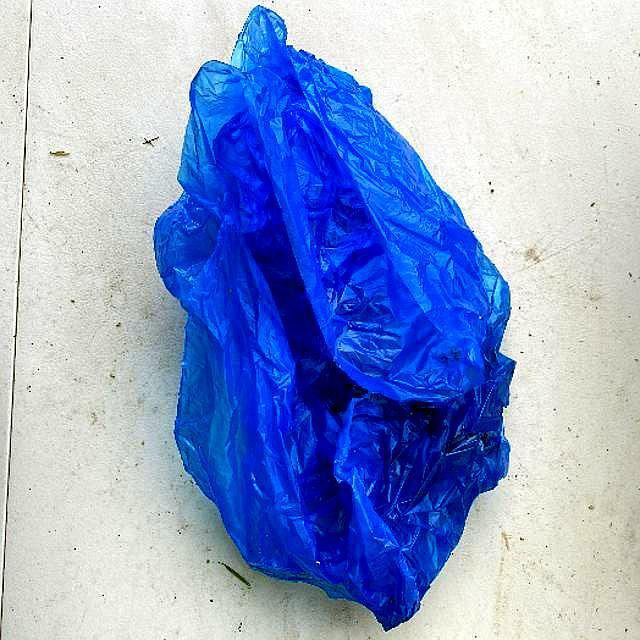Non-biodegradable: (152, 5, 519, 632)
